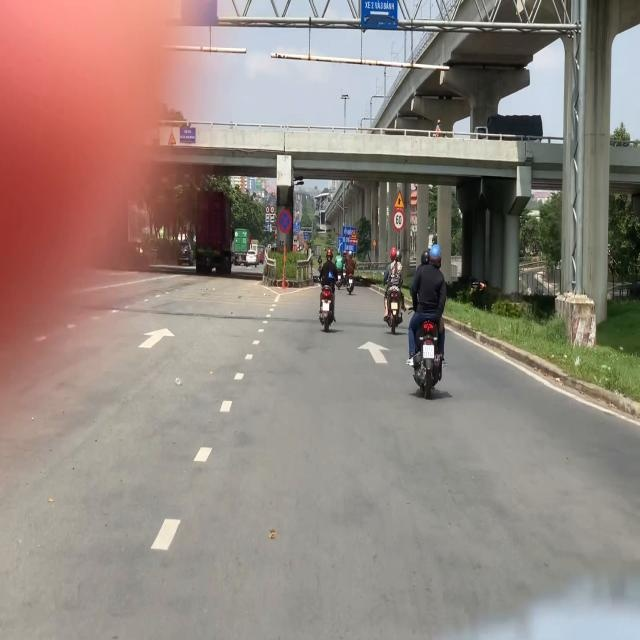bien_cam: (278, 208, 293, 234), (393, 189, 406, 210), (393, 209, 405, 231)
